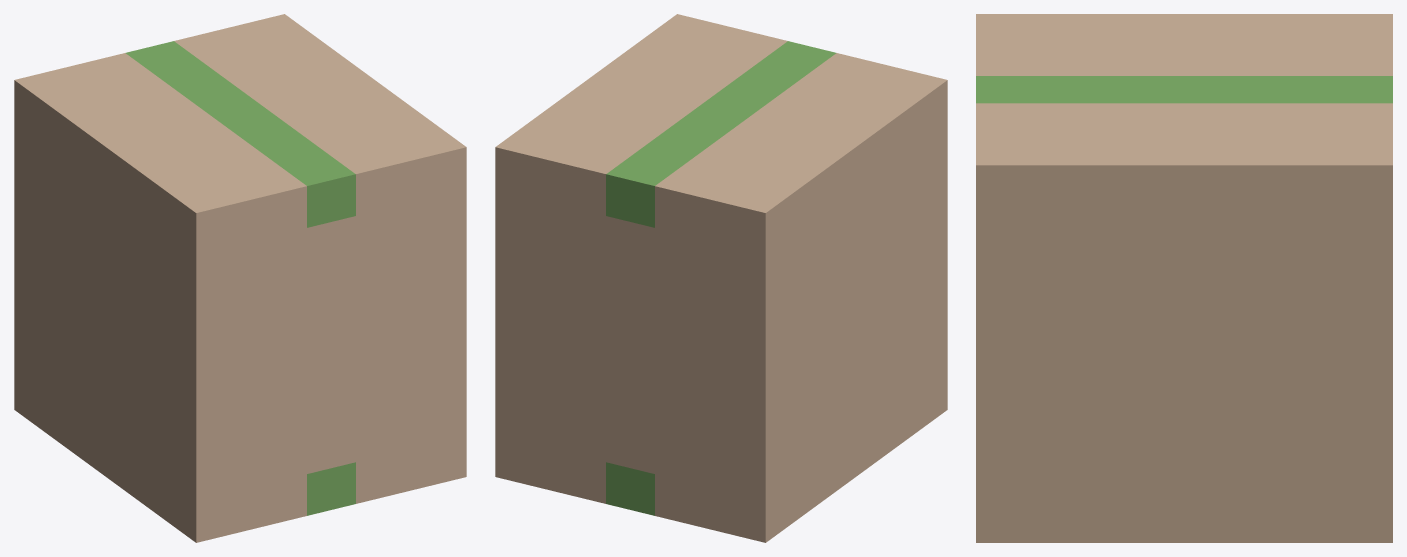
The model's file is tape_GREEN_03.fbx.
3 renders of one model, left to right at view 1: azimuth 30°, elevation 25°; view 2: azimuth 150°, elevation 25°; view 3: azimuth 270°, elevation 25°, orthographic. The views are drawn at different scales.
Visible parts, largest first — view 1: Cardboard Box 03; view 2: Cardboard Box 03; view 3: Cardboard Box 03.
Part boxes in pixels (x1,y1,x2,y2): Cardboard Box 03: (14, 14, 466, 542); Cardboard Box 03: (495, 14, 947, 542); Cardboard Box 03: (976, 14, 1392, 542).
Bounding box in the file's own units: 19.48 × 22.7 × 22.7.
